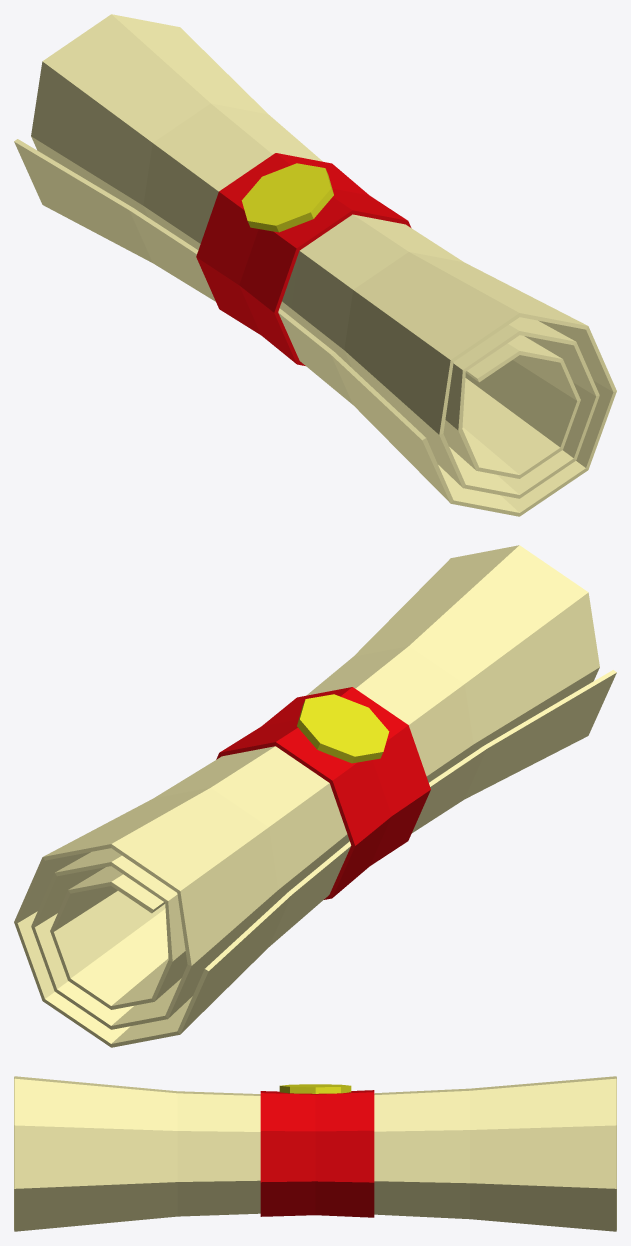
The model's file is Scroll.fbx.
3 renders of one model, top to bottom at view 1: azimuth 30°, elevation 25°; view 2: azimuth 150°, elevation 25°; view 3: azimuth 270°, elevation 25°, orthographic. The views are drawn at different scales.
Visible parts, largest first — view 1: scroll; view 2: scroll; view 3: scroll.
Part boxes in pixels (<box>): scroll: <box>14,14,616,516</box>; scroll: <box>14,545,616,1047</box>; scroll: <box>14,1076,616,1231</box>.
Bounding box in the file's own units: 53.62 × 53.62 × 195.
